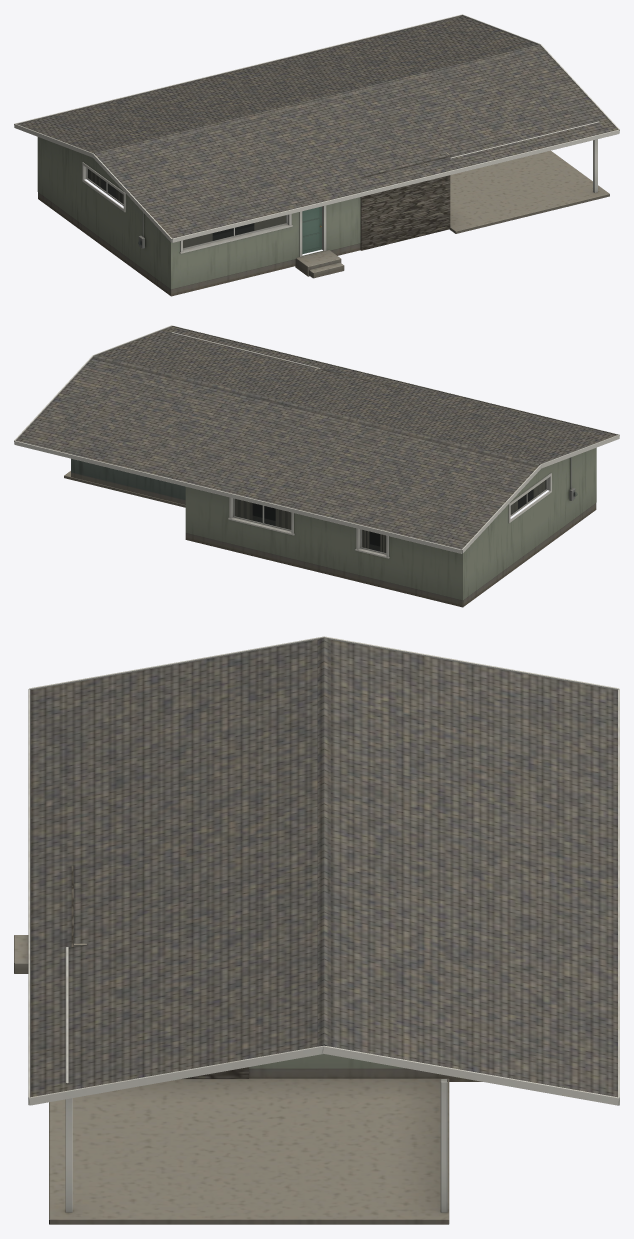
The model's file is ranch_carport.glb.
3 renders of one model, top to bottom at view 1: azimuth 30°, elevation 25°; view 2: azimuth 150°, elevation 25°; view 3: azimuth 270°, elevation 25°, orthographic. The views are drawn at different scales.
Parts seen in each view (by area): view 1: ranch_carport; view 2: ranch_carport; view 3: ranch_carport.
Boxes of the visible parts, left/top/right/bottom form: ranch_carport: left=14, top=14, right=619, bottom=296; ranch_carport: left=14, top=325, right=619, bottom=607; ranch_carport: left=14, top=636, right=619, bottom=1224.
Size of the model in its own units: 19.4 by 4.1 by 12.11.
Materials: 2 (2 with a texture image).
